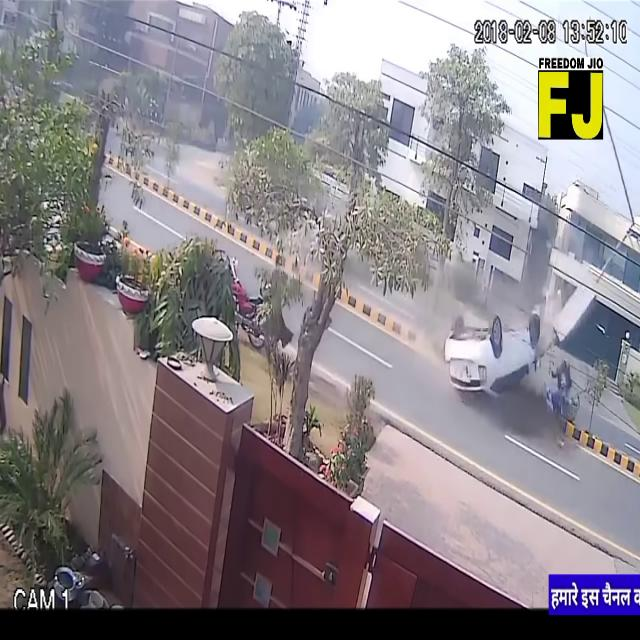accident: (445, 305, 546, 444)
